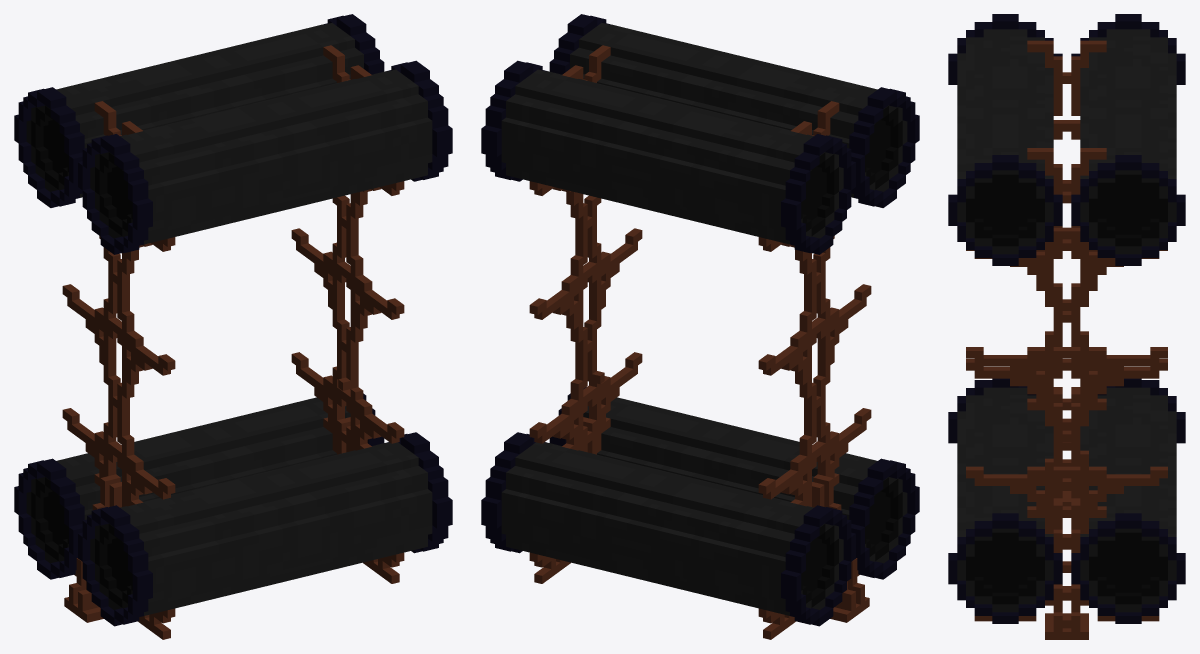
The model's file is pipe_3.obj.
The picture shows the model from 3 angles, left to right: view 1: azimuth 30°, elevation 25°; view 2: azimuth 150°, elevation 25°; view 3: azimuth 270°, elevation 25°; orthographic projection. The views are drawn at different scales.
Size of the model in its own units: 4 by 6 by 2.7.
1 material, 1 textured.
